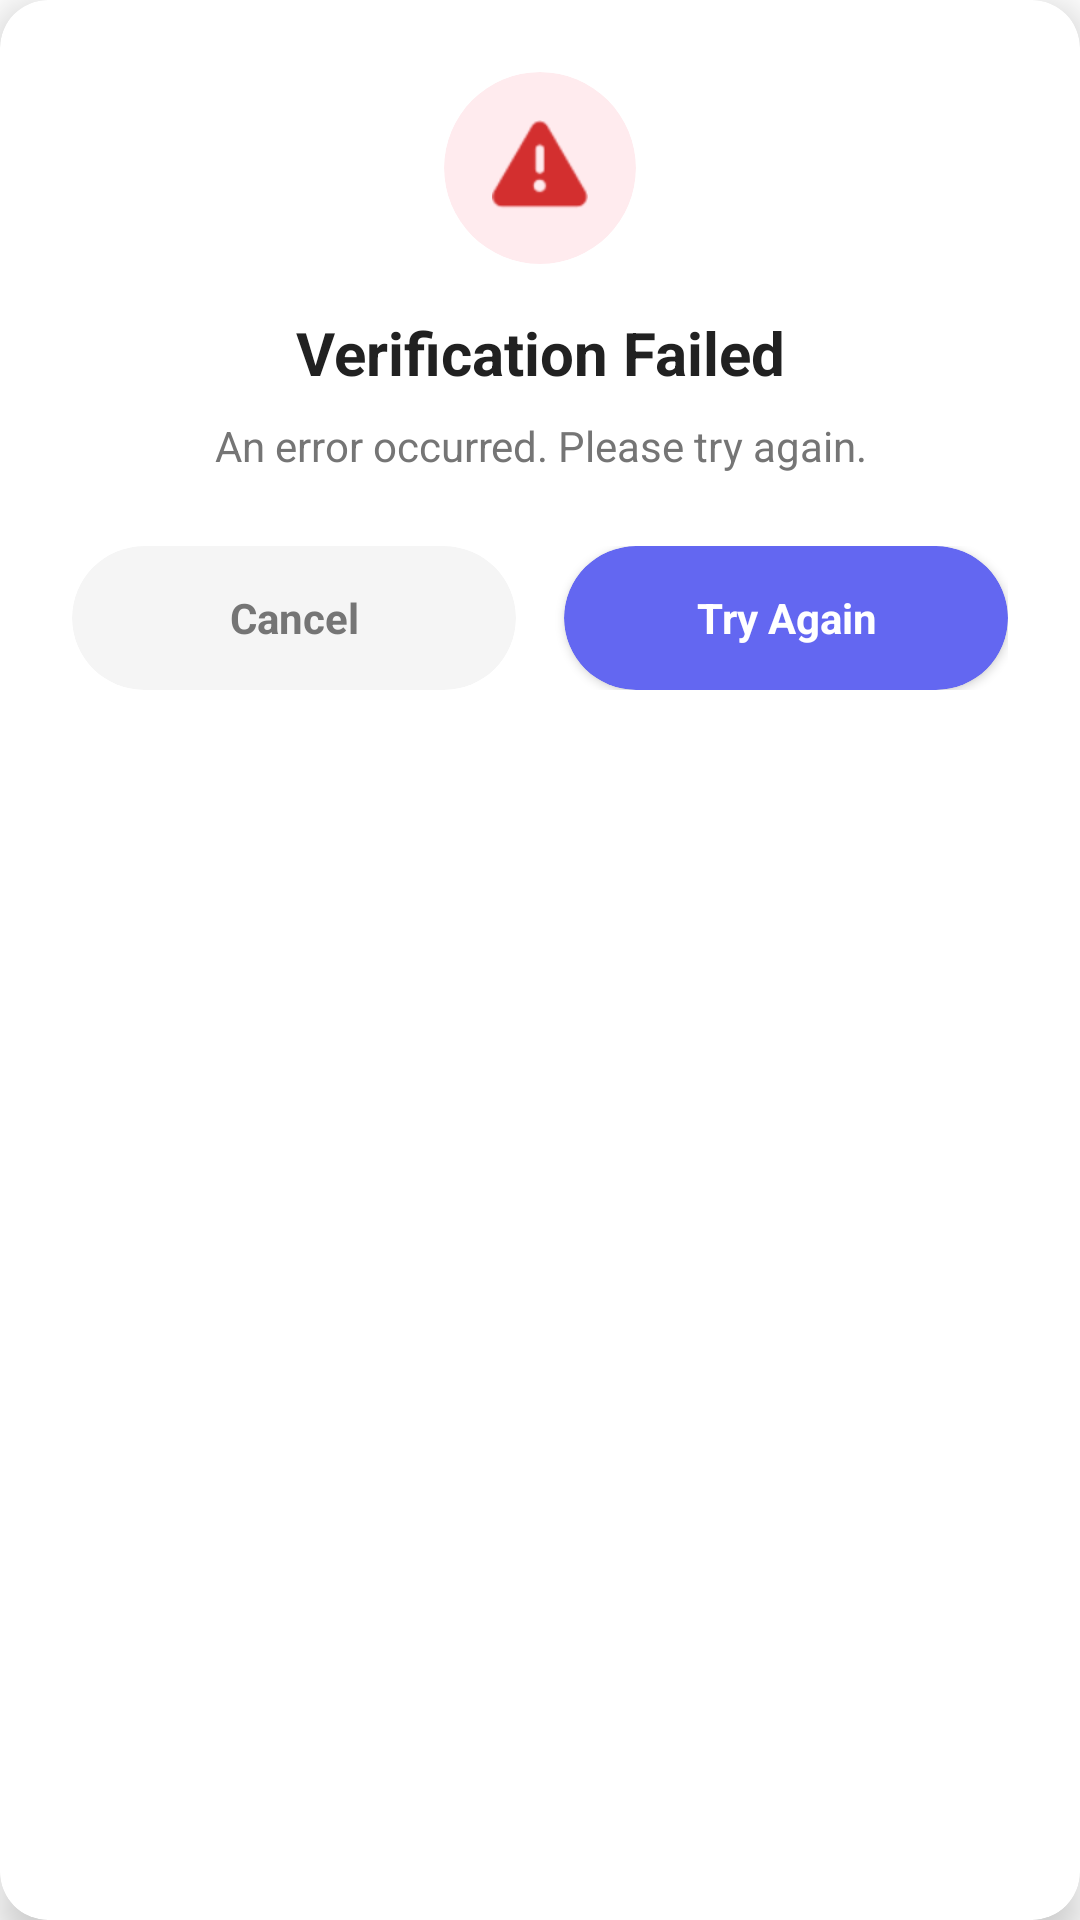

Locate icon controls on the screen. Image size 1080x1920, boxes as (x1, y1, x2, y2).
alert: (492, 120, 588, 208)
